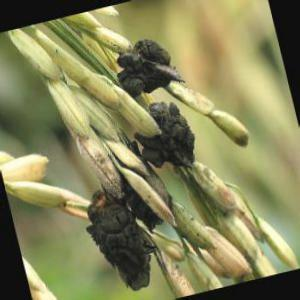Leaf_Scald: (122, 42, 177, 100), (89, 195, 141, 252), (152, 108, 197, 166), (118, 259, 154, 293)
